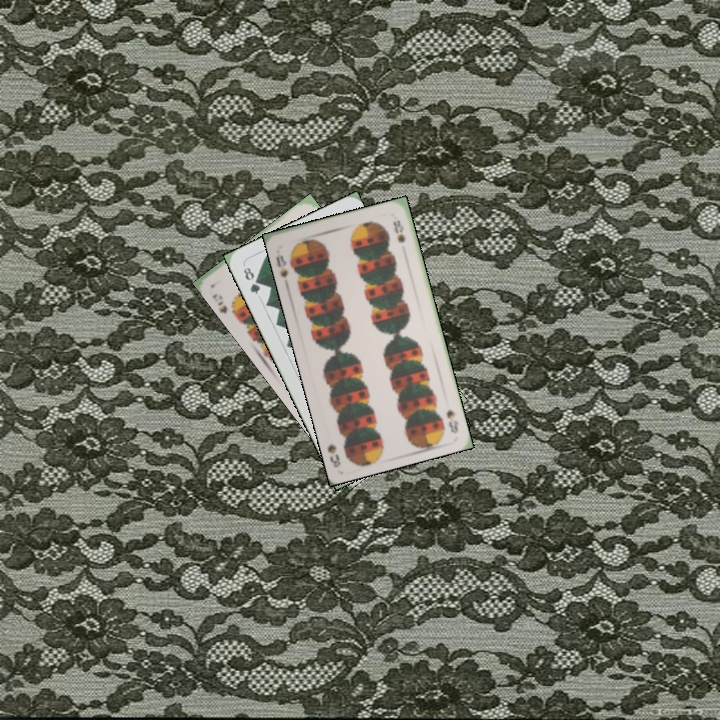G8: (239, 263, 263, 297)
S8: (272, 251, 291, 281), (442, 406, 461, 436)
S9: (208, 289, 239, 319)
